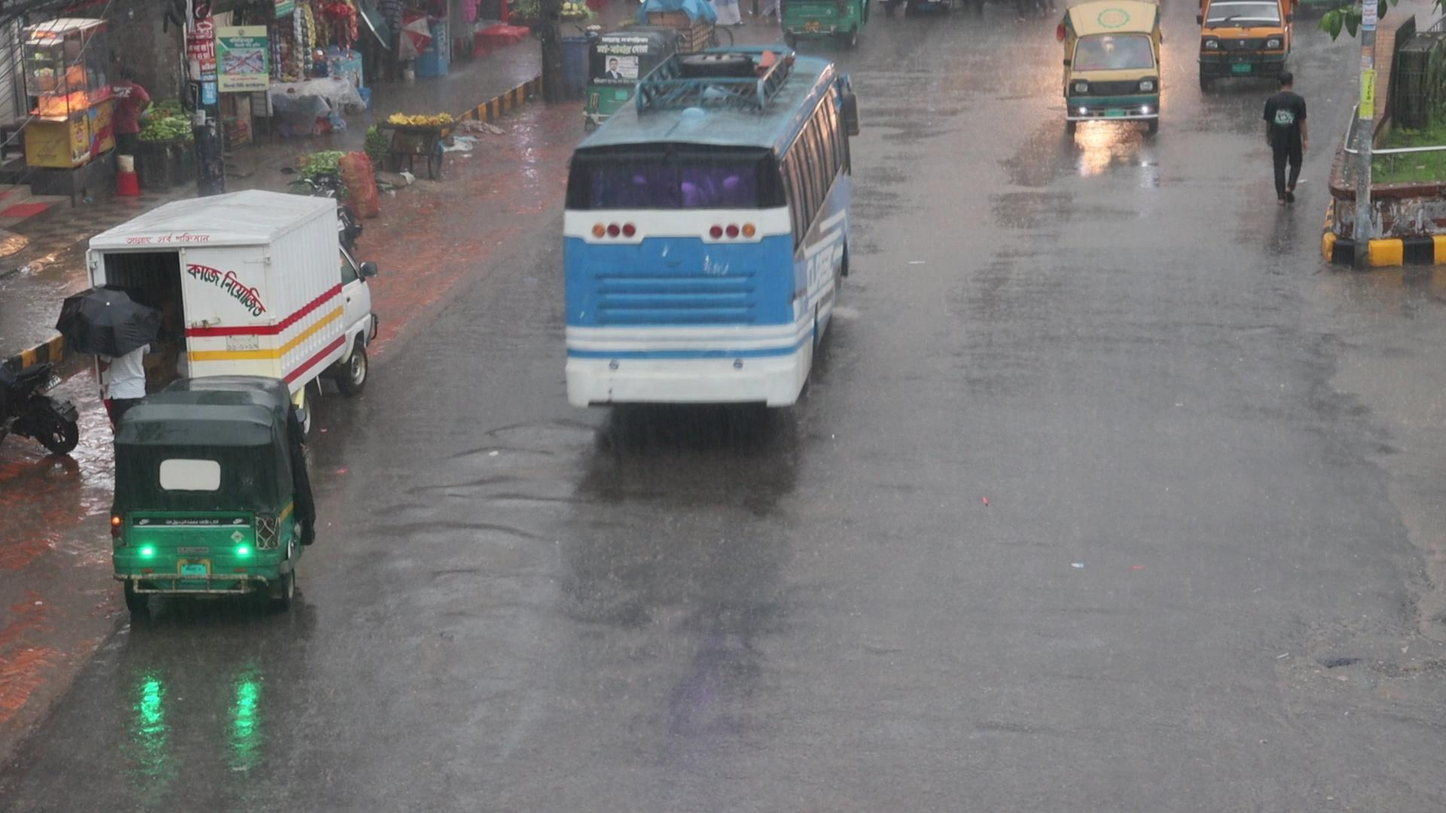Bus: (554, 37, 860, 452)
Truck: (1052, 2, 1174, 152)
